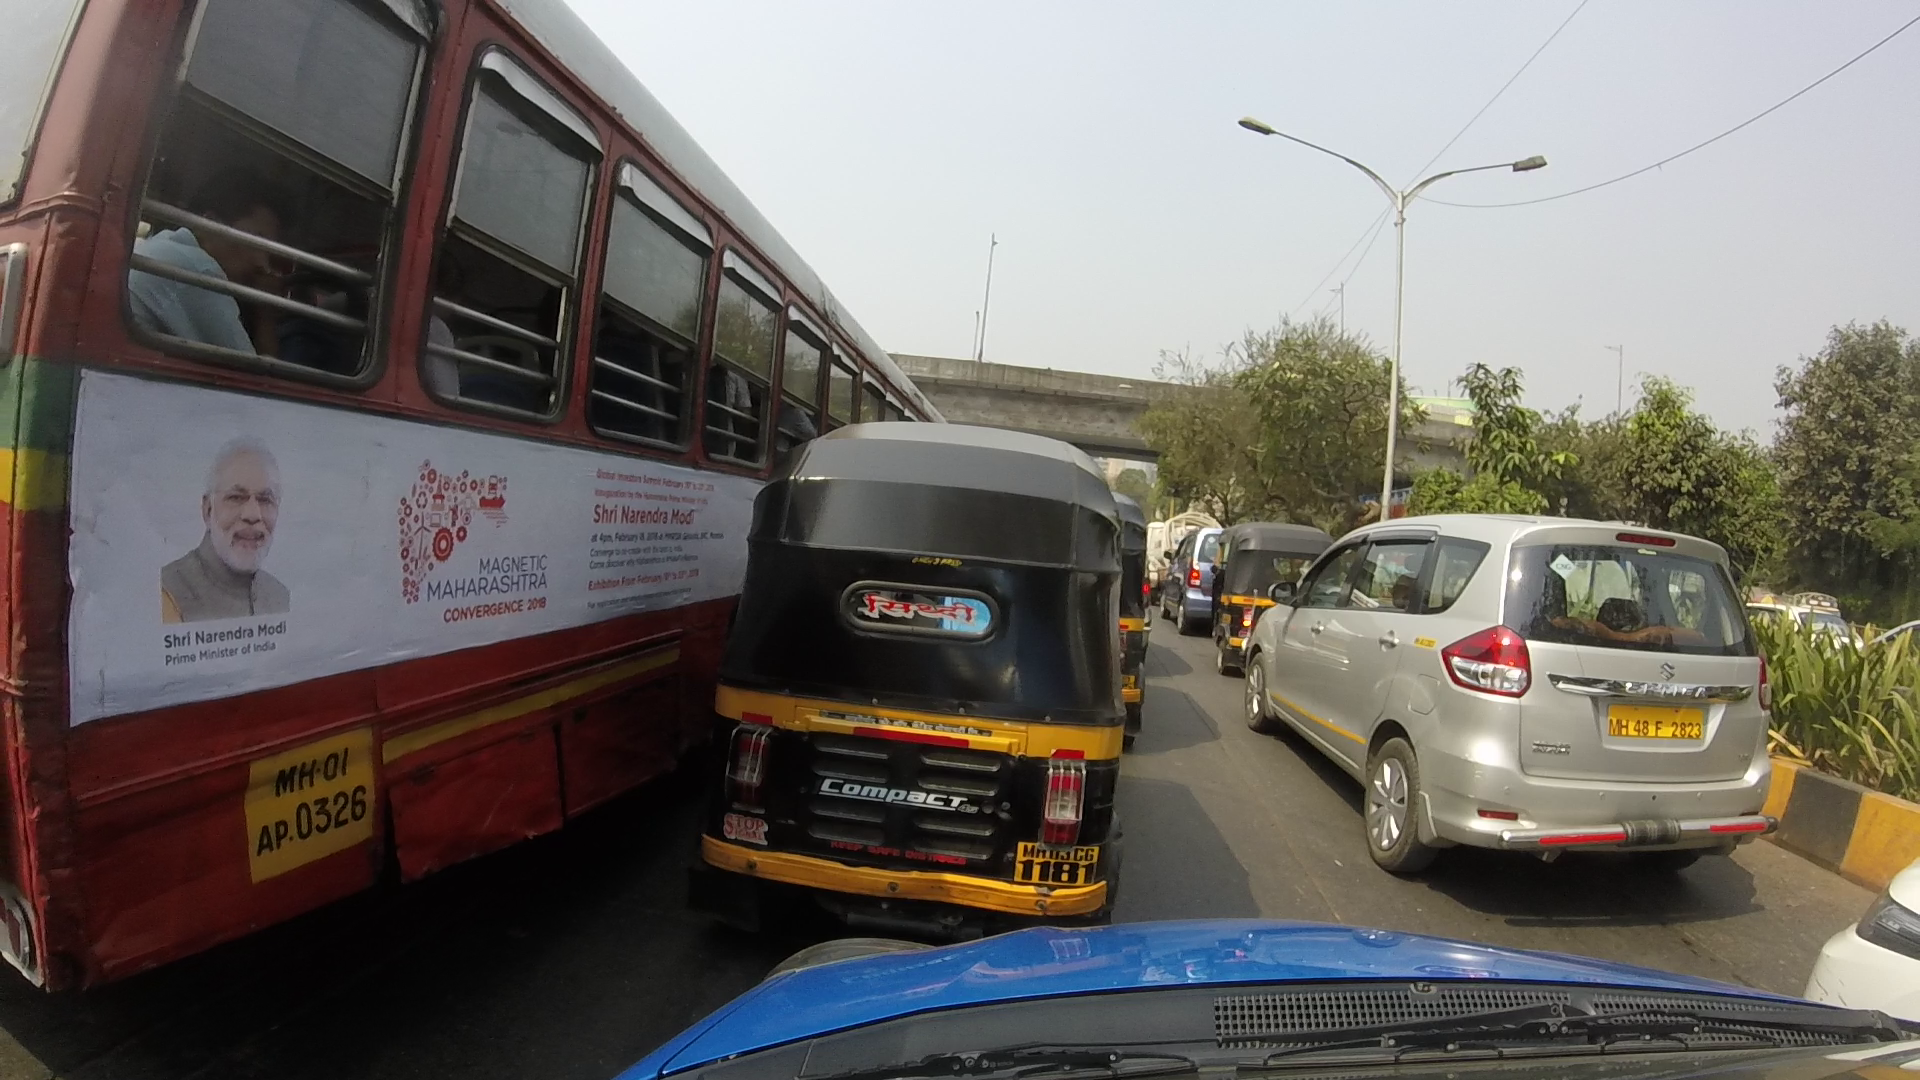bus: (1, 1, 913, 986)
car: (1262, 506, 1778, 869)
rickshaw: (680, 384, 1135, 922), (1189, 492, 1331, 657)
